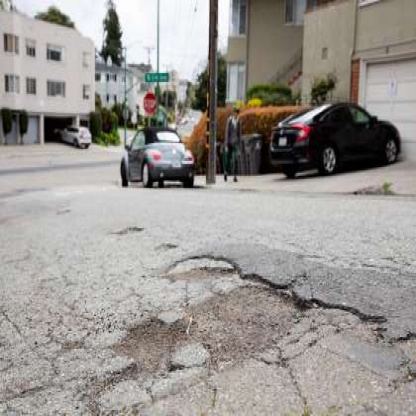pothole: (72, 236, 397, 416)
